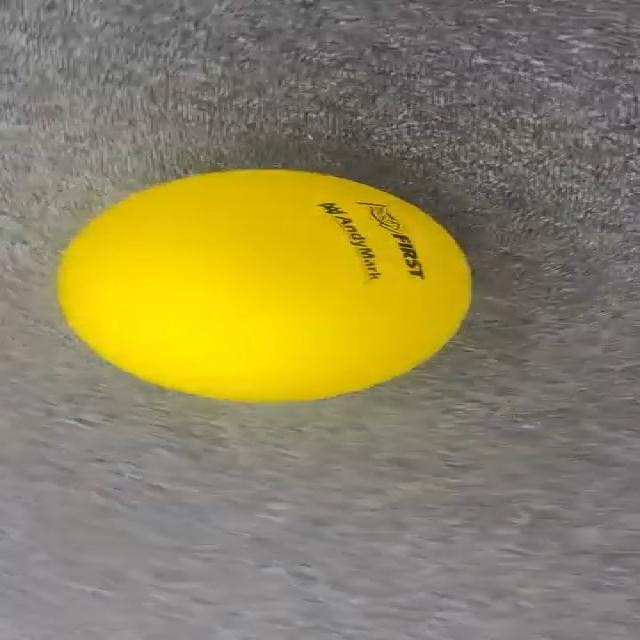Fuels: (60, 171, 466, 400)
